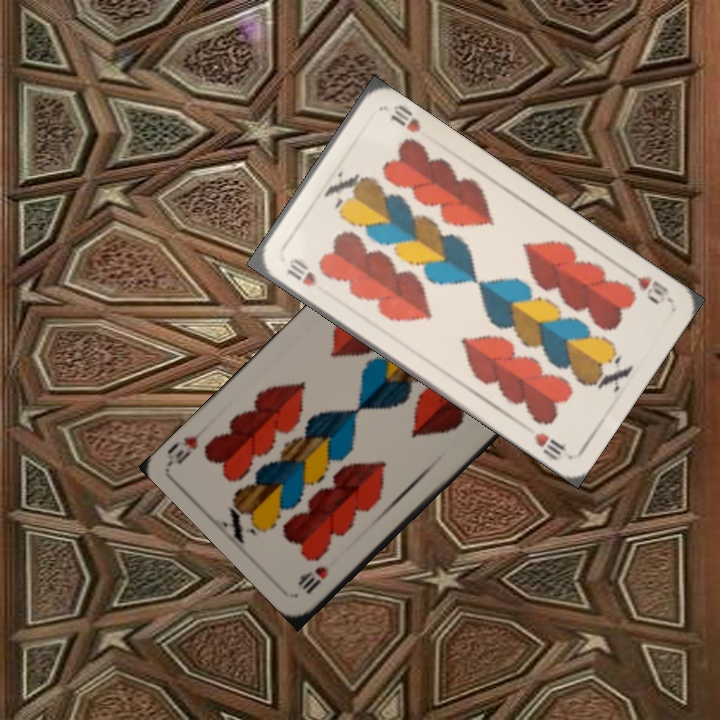H10: (632, 271, 671, 308), (282, 254, 319, 290), (295, 562, 331, 597)
